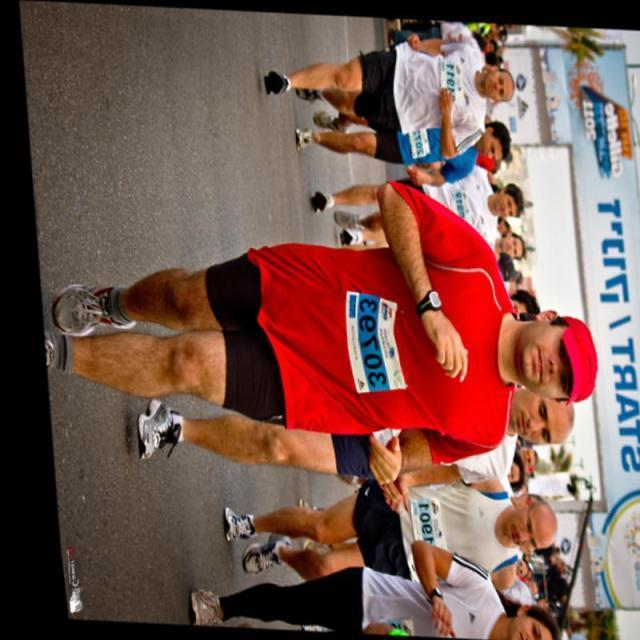dorsal: (322, 278, 407, 404), (393, 492, 438, 552)
